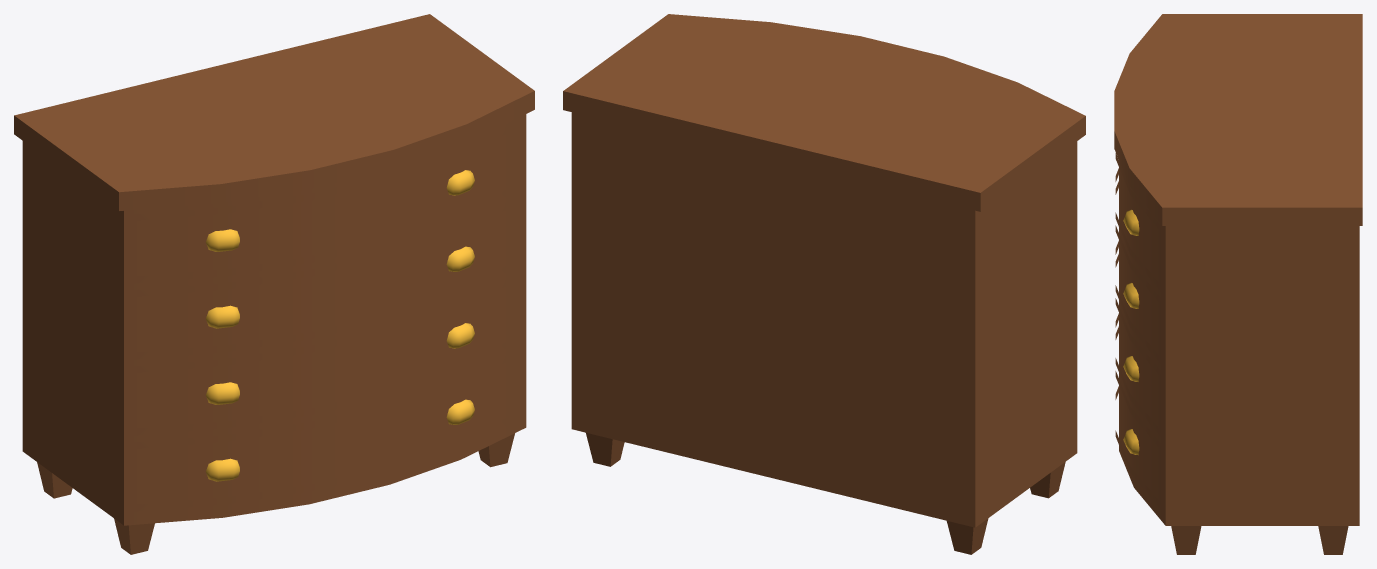
File: Furniture_Dresser_Small.fbx
3 renders of one model, left to right at view 1: azimuth 30°, elevation 25°; view 2: azimuth 150°, elevation 25°; view 3: azimuth 270°, elevation 25°, orthographic. The views are drawn at different scales.
Parts seen in each view (by area): view 1: dresser_001; view 2: dresser_001; view 3: dresser_001.
Part boxes in pixels (<box>): dresser_001: <box>14,14,534,554</box>; dresser_001: <box>563,14,1085,554</box>; dresser_001: <box>1114,14,1362,554</box>.
Bounding box in the file's own units: 138 × 118 × 74.56.
